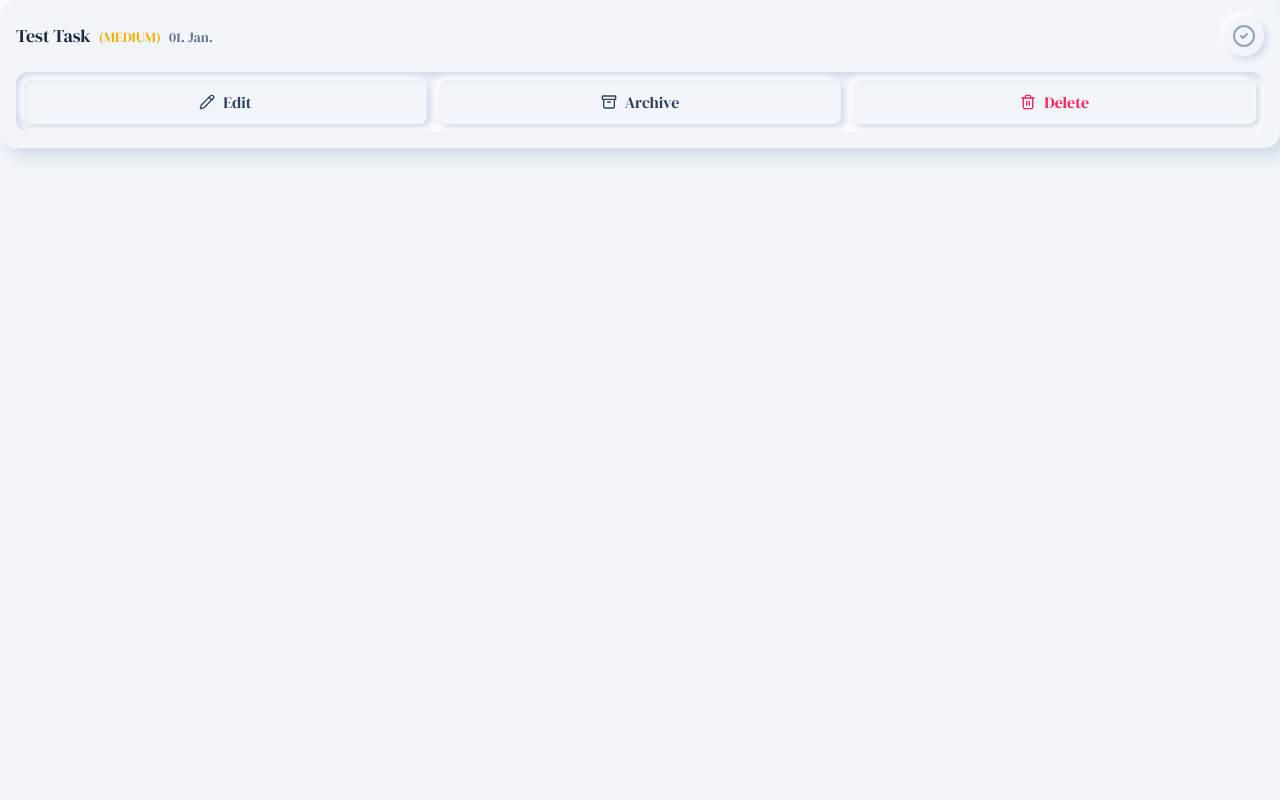
Test case: TaskItem Component › clicking delete opens confirmation dialog
Step 1. Click the button "Delete" → (1055,102), box [853,80,1256,124]
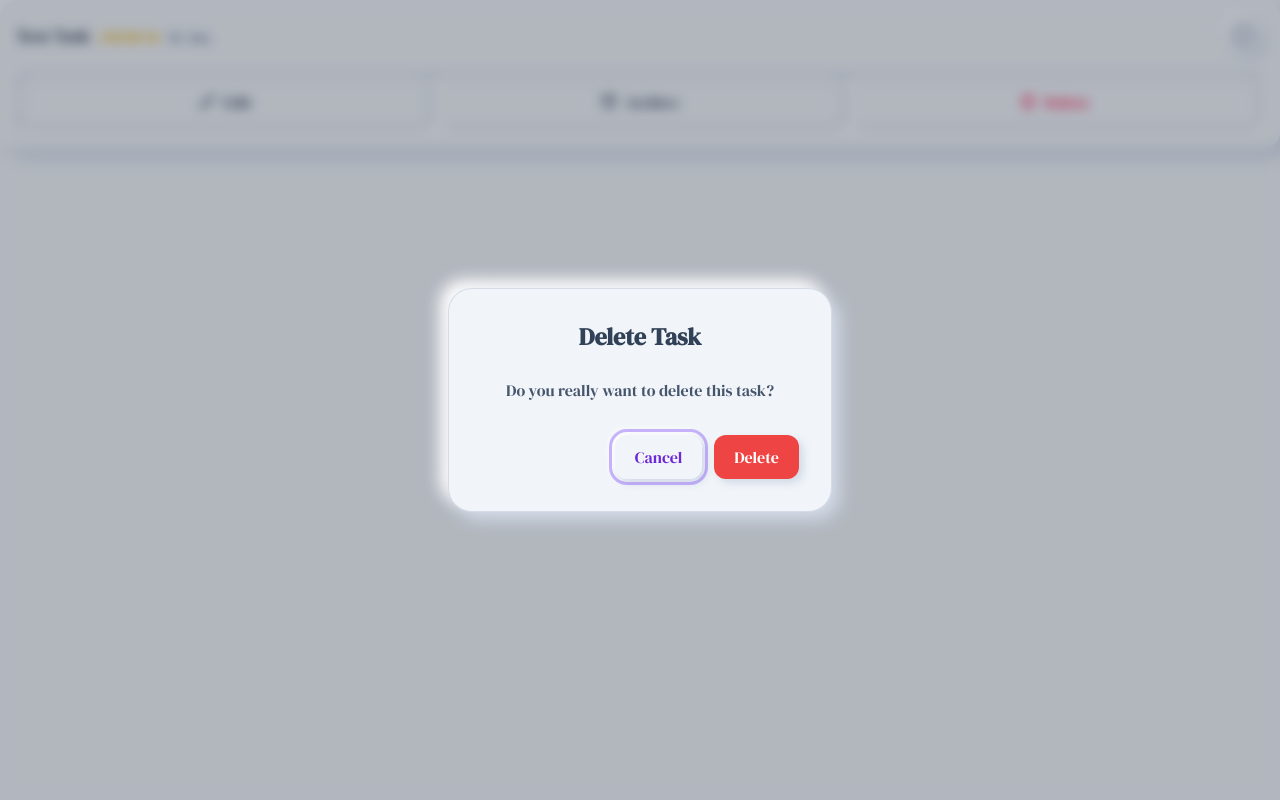
Expected: the text "Do you really want to delete this task?" is shown, [506,379,774,401]
